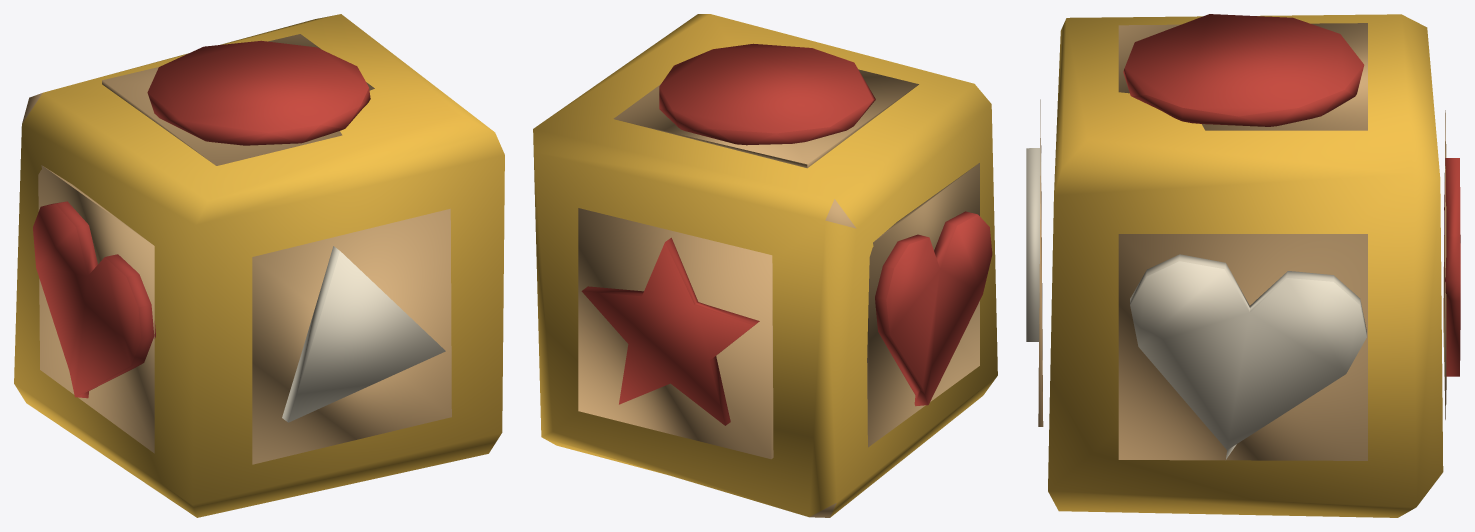
The model's file is den_block_yellow_lod2.glb.
The picture shows the model from 3 angles, left to right: view 1: azimuth 30°, elevation 25°; view 2: azimuth 150°, elevation 25°; view 3: azimuth 270°, elevation 25°; orthographic projection. The views are drawn at different scales.
Visible parts, largest first — view 1: den_block_yellow.001; view 2: den_block_yellow.001; view 3: den_block_yellow.001.
Boxes of the visible parts, <box> form: den_block_yellow.001: <box>14,14,504,517</box>; den_block_yellow.001: <box>533,14,997,517</box>; den_block_yellow.001: <box>1026,14,1460,517</box>.
Size of the model in its own units: 4.93 by 4.69 by 4.88.
